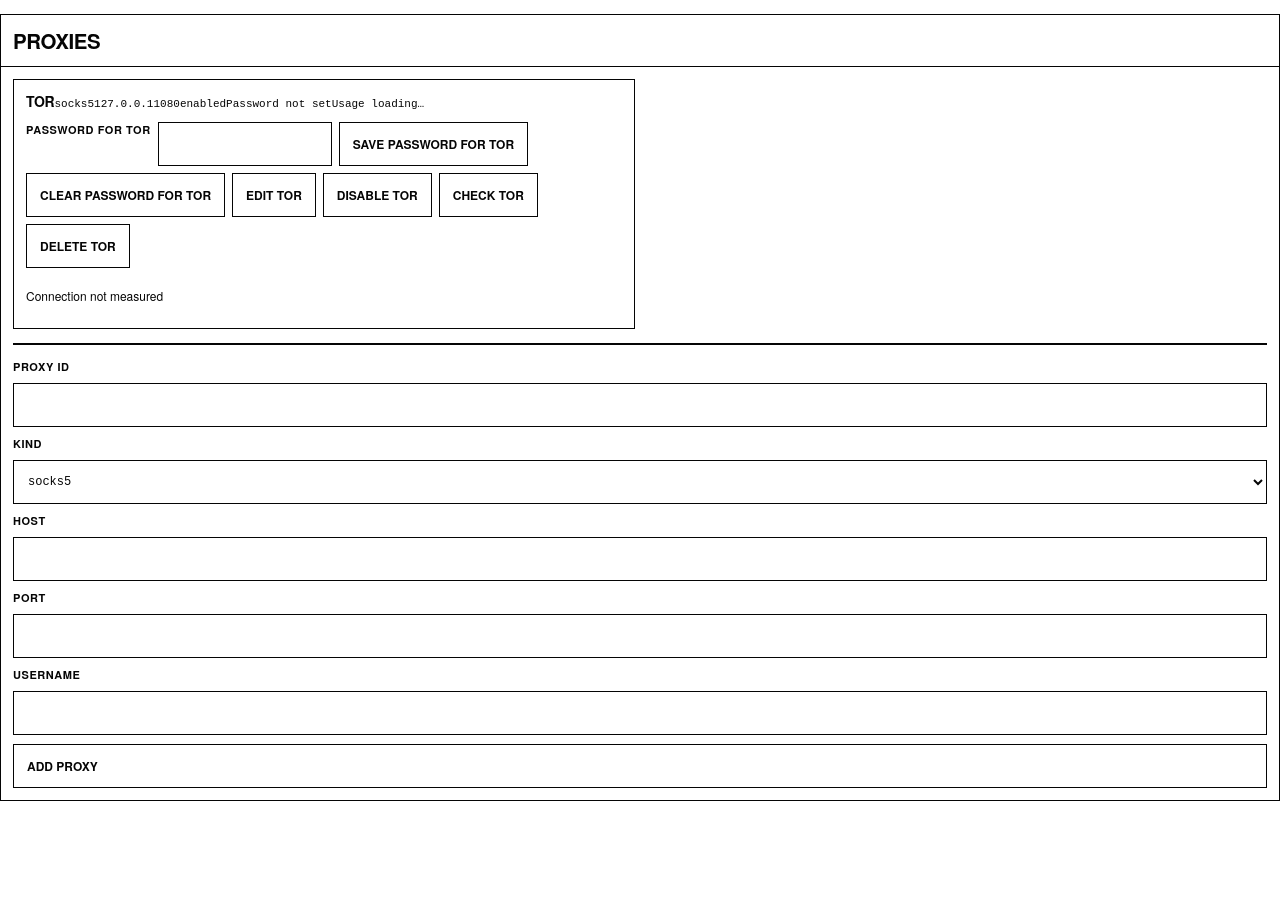
it: ProxiesPanel lifecycle UX › reports a measured latency after a successful check
Check: the text "127.0.0.1" is shown, box x1=94 y1=98 x2=153 y2=110
Click the button "Check tor" at (488, 195), box x1=439 y1=173 x2=538 y2=217
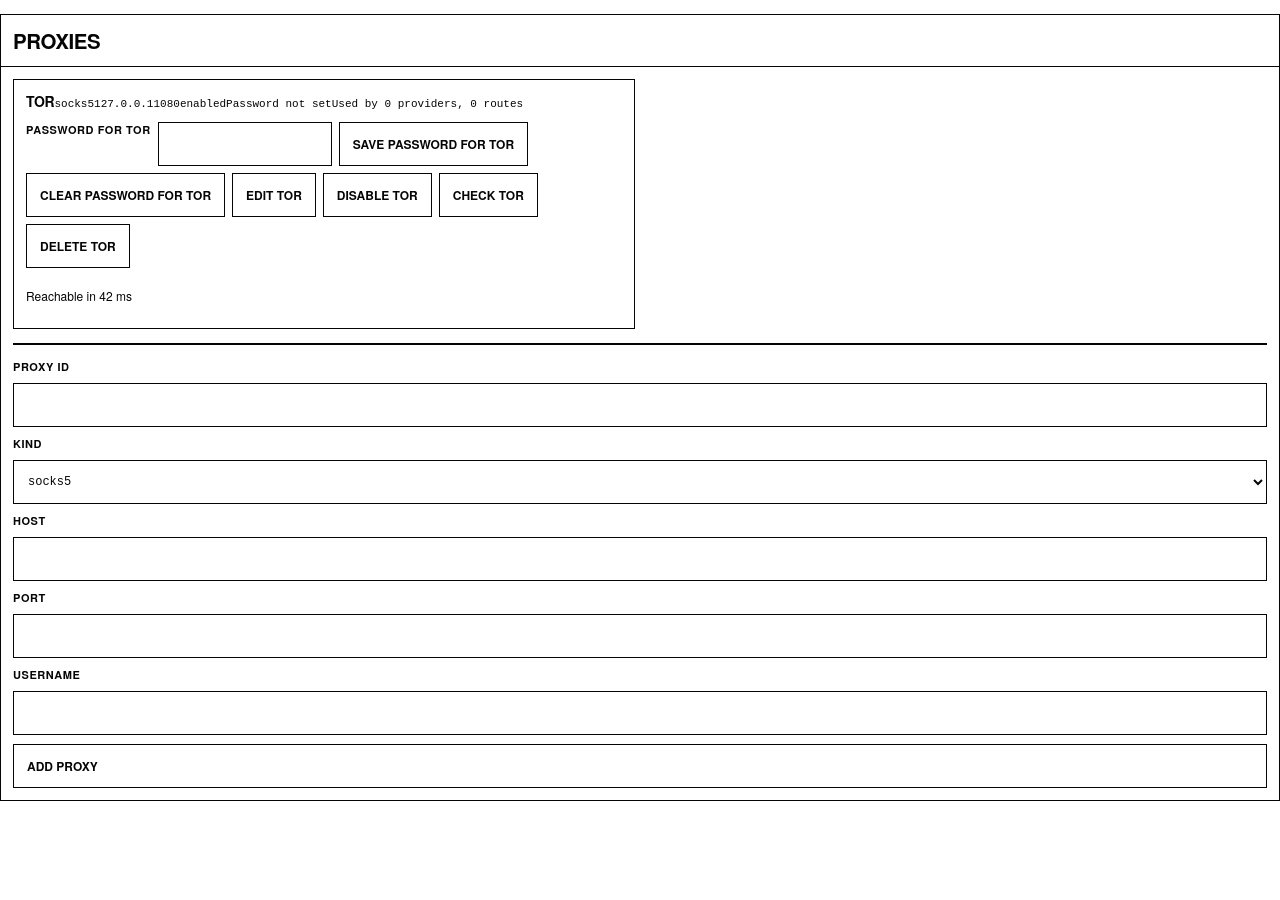
Check: the text with test id "check-tor" shows "42", box x1=26 y1=287 x2=132 y2=304
Check: the text with test id "check-tor" shows "Reachable", box x1=26 y1=287 x2=132 y2=304
